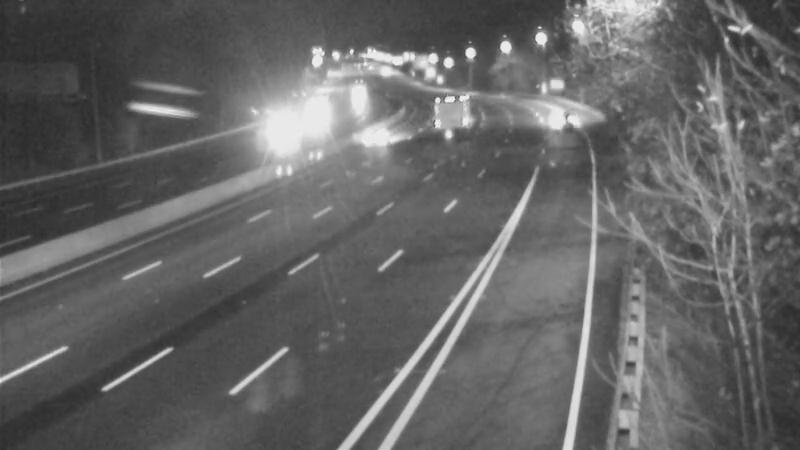vehicle: (531, 95, 581, 145), (425, 90, 475, 140), (342, 107, 392, 157), (256, 112, 306, 162), (333, 63, 383, 113)
